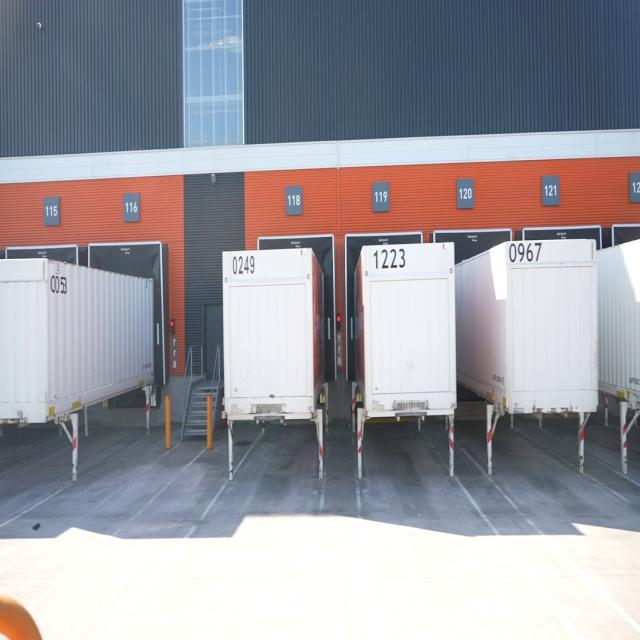Code: (372, 245, 407, 272), (504, 241, 542, 264), (230, 251, 256, 278), (49, 269, 70, 297)
